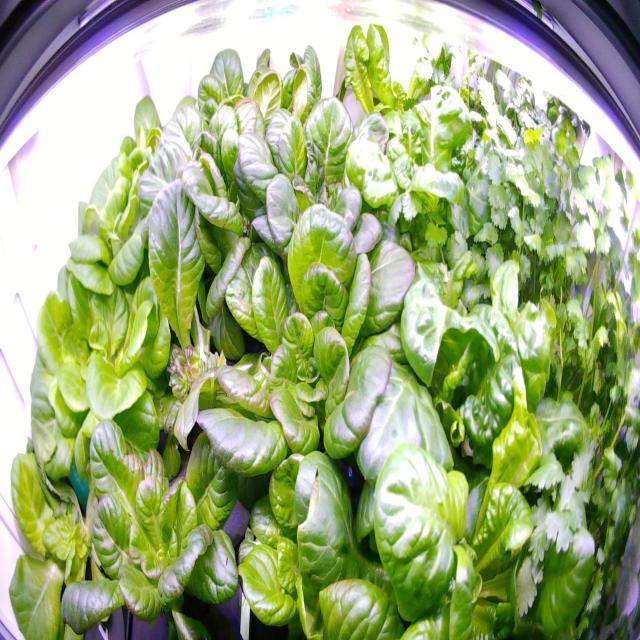Ready: (244, 367, 544, 638), (179, 163, 430, 485), (369, 202, 560, 476), (9, 197, 175, 496), (140, 84, 298, 372), (241, 60, 409, 243), (65, 61, 186, 302), (174, 24, 338, 168)
young: (52, 360, 252, 634), (5, 438, 133, 640)
